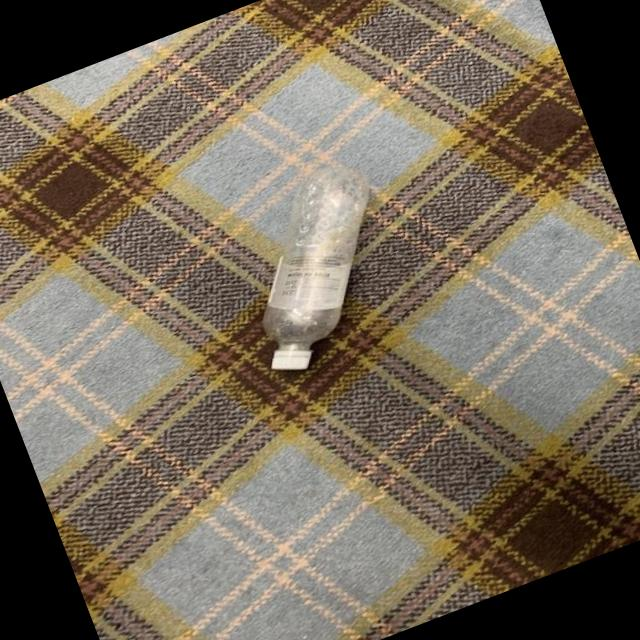BotolPlastik: (210, 152, 426, 382)
